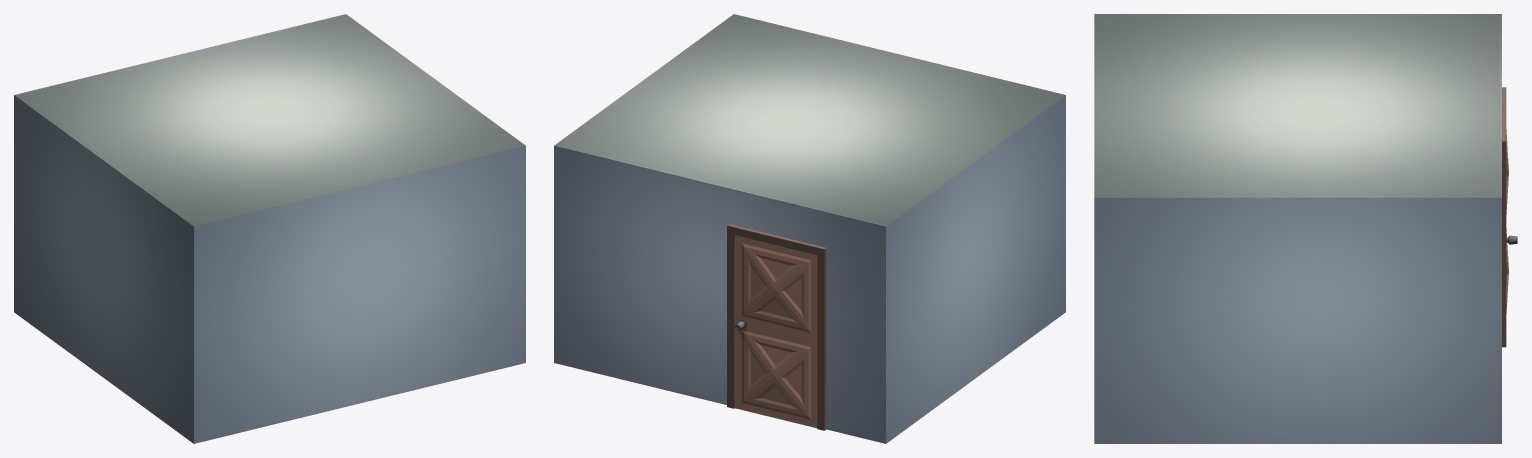
File: Props.FBX
3 views of the same model, side by side, from view 1: azimuth 30°, elevation 25°; view 2: azimuth 150°, elevation 25°; view 3: azimuth 270°, elevation 25° (orthographic). The views are drawn at different scales.
Visible parts, largest first — view 1: Wall; view 2: Wall, Door, Door Frame; view 3: Wall, Door Frame.
Boxes of the visible parts, x1,y1,x2,y2 form: Wall: (14, 14, 525, 443); Wall: (554, 14, 1065, 443); Door: (735, 235, 817, 428); Door Frame: (727, 224, 826, 430); Wall: (1094, 14, 1501, 443); Door Frame: (1502, 87, 1506, 347).
Bounding box in the file's own units: 160 × 100 × 156.
